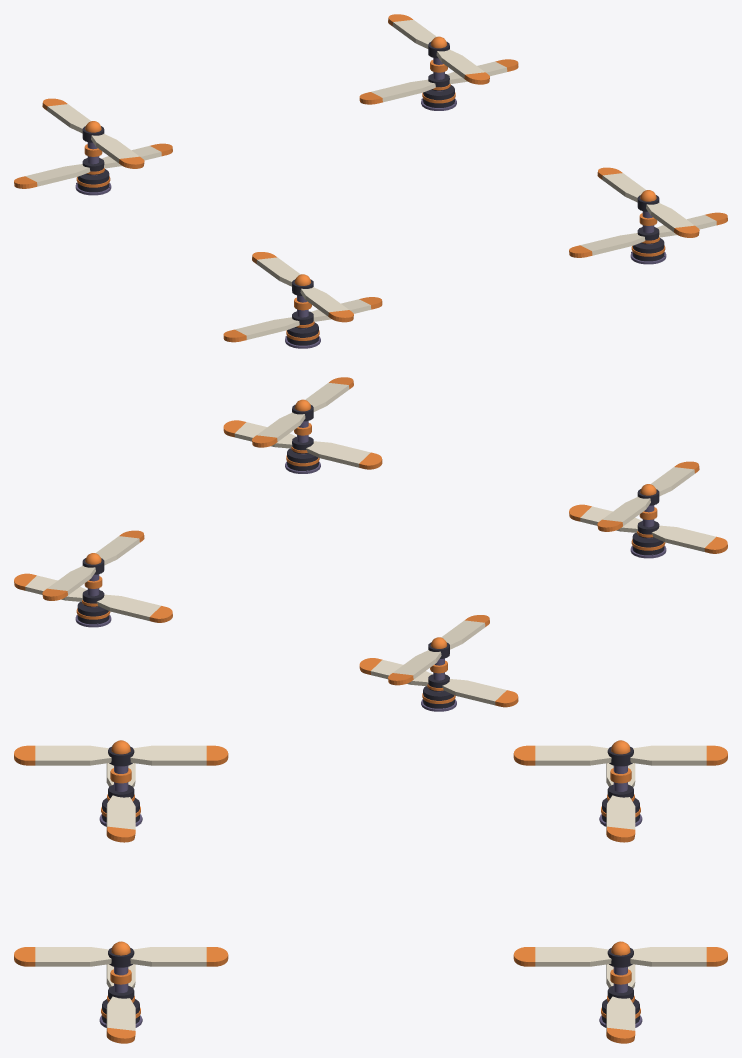
The model's file is rotor_system.glb.
3 renders of one model, top to bottom at view 1: azimuth 30°, elevation 25°; view 2: azimuth 150°, elevation 25°; view 3: azimuth 270°, elevation 25°, orthographic. The views are drawn at different scales.
Parts seen in each view (by area): view 1: rotor_motors, rotor_1_hi, rotor_3_hi, rotor_4_hi, rotor_2_hi, rotor_2_lo, rotor_3_lo, rotor_4_lo, rotor_1_lo; view 2: rotor_motors, rotor_1_lo, rotor_3_lo, rotor_4_lo, rotor_2_lo, rotor_4_hi, rotor_2_hi, rotor_1_hi, rotor_3_hi; view 3: rotor_2_hi, rotor_3_hi, rotor_1_hi, rotor_4_hi, rotor_motors, rotor_4_lo, rotor_2_lo, rotor_1_lo, rotor_3_lo.
Boxes of the visible parts, x1=… form: rotor_motors: x1=75, y1=58, x2=666, y2=348; rotor_1_hi: x1=597, y1=167, x2=699, y2=237; rotor_3_hi: x1=42, y1=98, x2=144, y2=168; rotor_4_hi: x1=388, y1=14, x2=489, y2=84; rotor_2_hi: x1=252, y1=252, x2=353, y2=322; rotor_2_lo: x1=223, y1=297, x2=382, y2=342; rotor_3_lo: x1=14, y1=143, x2=172, y2=188; rotor_4_lo: x1=359, y1=59, x2=518, y2=104; rotor_1_lo: x1=569, y1=212, x2=727, y2=257; rotor_motors: x1=75, y1=421, x2=666, y2=711; rotor_1_lo: x1=223, y1=420, x2=382, y2=469; rotor_3_lo: x1=359, y1=658, x2=518, y2=707; rotor_4_lo: x1=14, y1=573, x2=172, y2=622; rotor_2_lo: x1=569, y1=504, x2=727, y2=553; rotor_4_hi: x1=42, y1=530, x2=144, y2=600; rotor_2_hi: x1=597, y1=461, x2=699, y2=531; rotor_1_hi: x1=252, y1=377, x2=353, y2=447; rotor_3_hi: x1=388, y1=615, x2=489, y2=685; rotor_2_hi: x1=14, y1=740, x2=228, y2=766; rotor_3_hi: x1=513, y1=740, x2=727, y2=766; rotor_1_hi: x1=14, y1=941, x2=228, y2=967; rotor_4_hi: x1=513, y1=941, x2=727, y2=967; rotor_motors: x1=99, y1=765, x2=642, y2=1027; rotor_4_lo: x1=606, y1=964, x2=635, y2=1043; rotor_2_lo: x1=106, y1=763, x2=135, y2=842; rotor_1_lo: x1=106, y1=964, x2=135, y2=1043; rotor_3_lo: x1=606, y1=763, x2=635, y2=842.
Bounding box in the file's own units: 2.9 × 0.367 × 3.
